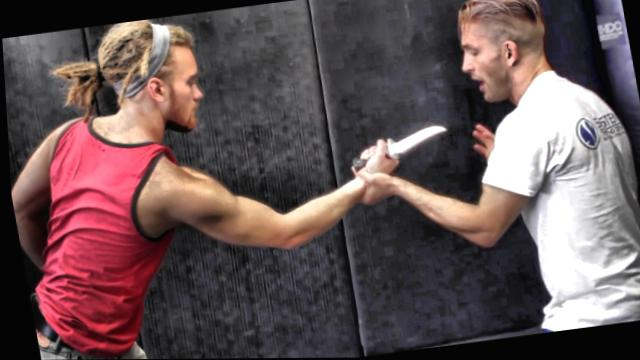knife: (337, 115, 458, 174)
